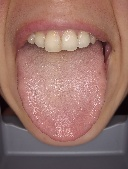tongue: (15, 54, 107, 143)
